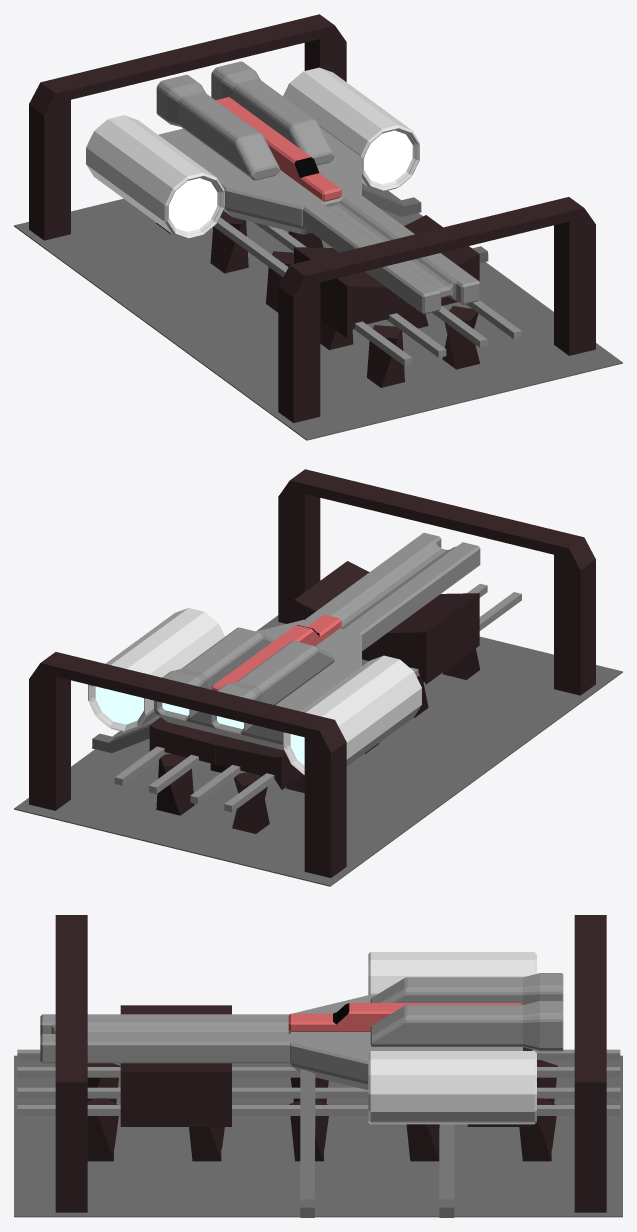
Rendered from Durandal2.fbx.
The picture shows the model from 3 angles, top to bottom: view 1: azimuth 30°, elevation 25°; view 2: azimuth 150°, elevation 25°; view 3: azimuth 270°, elevation 25°; orthographic projection. The views are drawn at different scales.
Visible parts, largest first — view 1: Holders, Durandal, Floor, Traps; view 2: Holders, Floor, Durandal, Traps; view 3: Floor, Durandal, Holders, Traps.
Boxes of the visible parts, box(x1,y1,x2,y2) form: Holders: box(29, 14, 595, 422); Durandal: box(86, 61, 480, 314); Floor: box(14, 183, 622, 440); Traps: box(362, 187, 488, 262); Holders: box(29, 469, 595, 877); Floor: box(14, 615, 622, 886); Durandal: box(88, 532, 480, 774); Traps: box(92, 723, 151, 752); Floor: box(14, 1055, 622, 1217); Durandal: box(40, 952, 563, 1124); Holders: box(17, 915, 620, 1212); Traps: box(300, 1069, 454, 1217).
Bounding box in the file's own units: 50.39 × 21.93 × 80.
